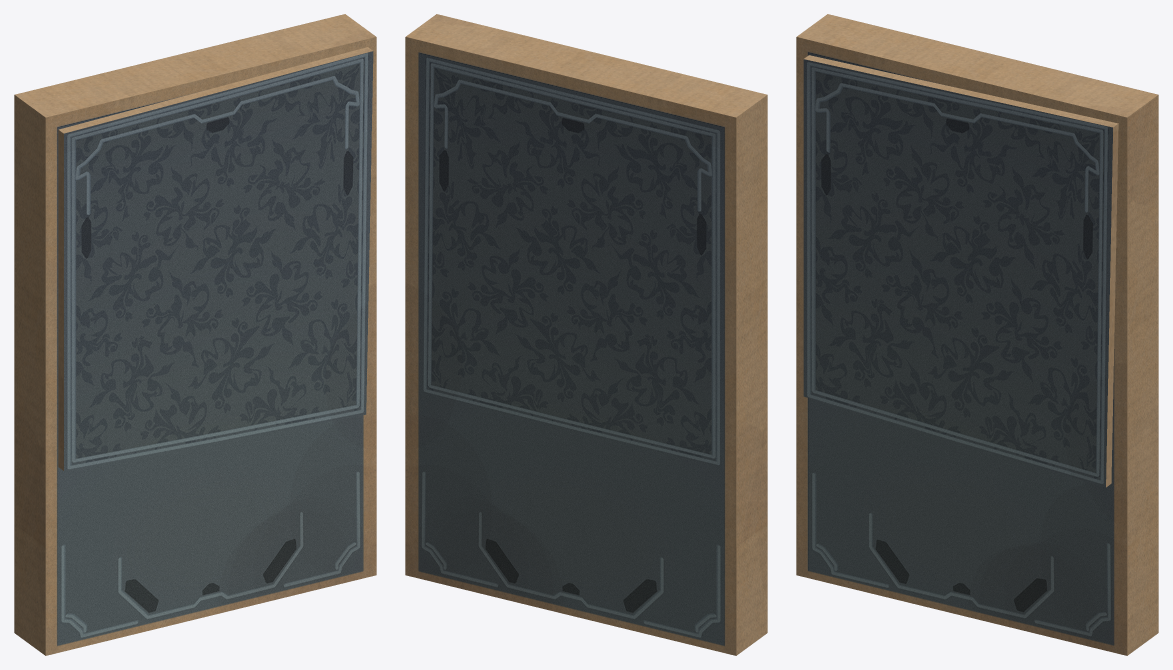
The model's file is SM_Wall_04.fbx.
3 renders of one model, left to right at view 1: azimuth 30°, elevation 25°; view 2: azimuth 150°, elevation 25°; view 3: azimuth 330°, elevation 25°, orthographic.
Visible parts, largest first — view 1: Wall_04; view 2: Wall_04; view 3: Wall_04.
Part boxes in pixels (x1,y1,x2,y2): Wall_04: (14,14,376,655); Wall_04: (405,14,767,655); Wall_04: (796,14,1158,655).
Bounding box in the file's own units: 800 × 1244 × 154.
